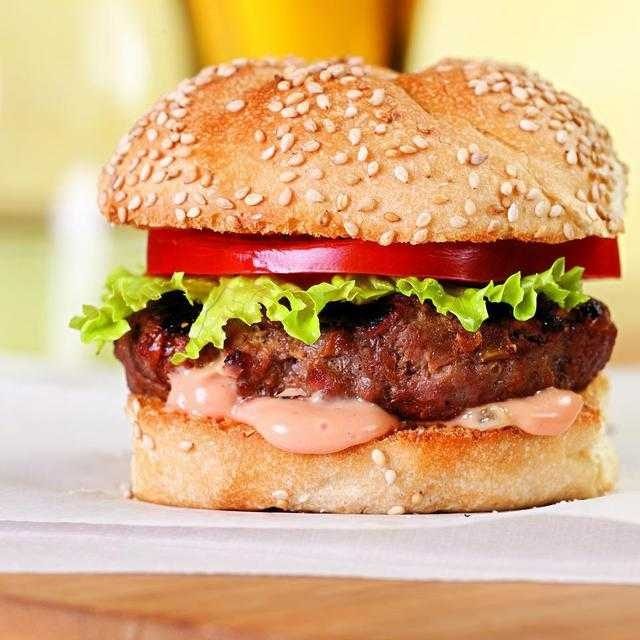hamburger: (120, 48, 625, 512)
